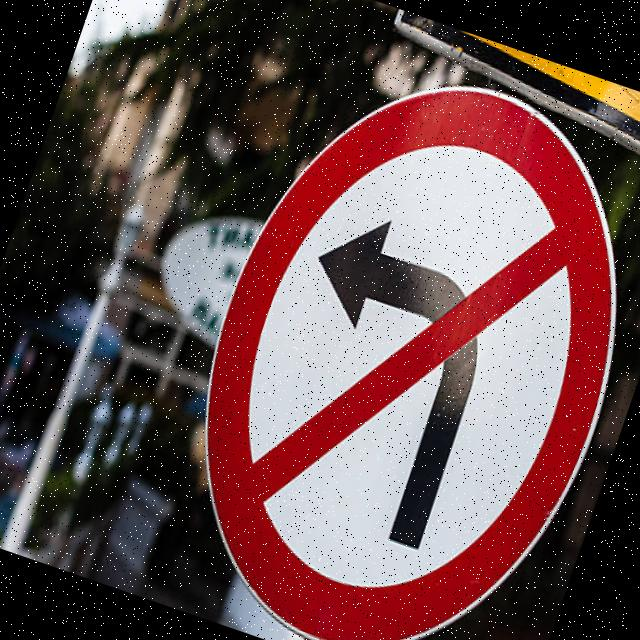do_not_turn_right: (125, 28, 640, 640)
